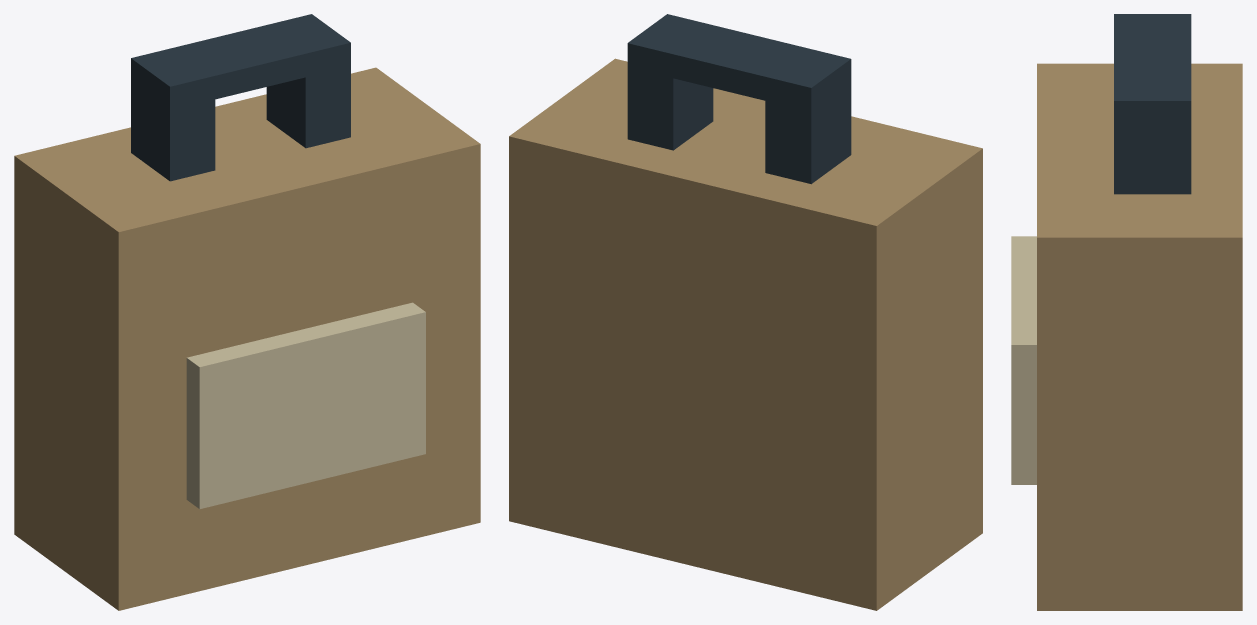
File: logistics-16.glb
The picture shows the model from 3 angles, left to right: view 1: azimuth 30°, elevation 25°; view 2: azimuth 150°, elevation 25°; view 3: azimuth 270°, elevation 25°; orthographic projection. The views are drawn at different scales.
Visible parts, largest first — view 1: Mail sack; view 2: Mail sack; view 3: Mail sack.
Boxes of the visible parts, <box> form: Mail sack: <box>14,14,480,610</box>; Mail sack: <box>509,14,982,610</box>; Mail sack: <box>1011,14,1242,610</box>.
Bounding box in the file's own units: 1.28 × 1.6 × 0.72.
